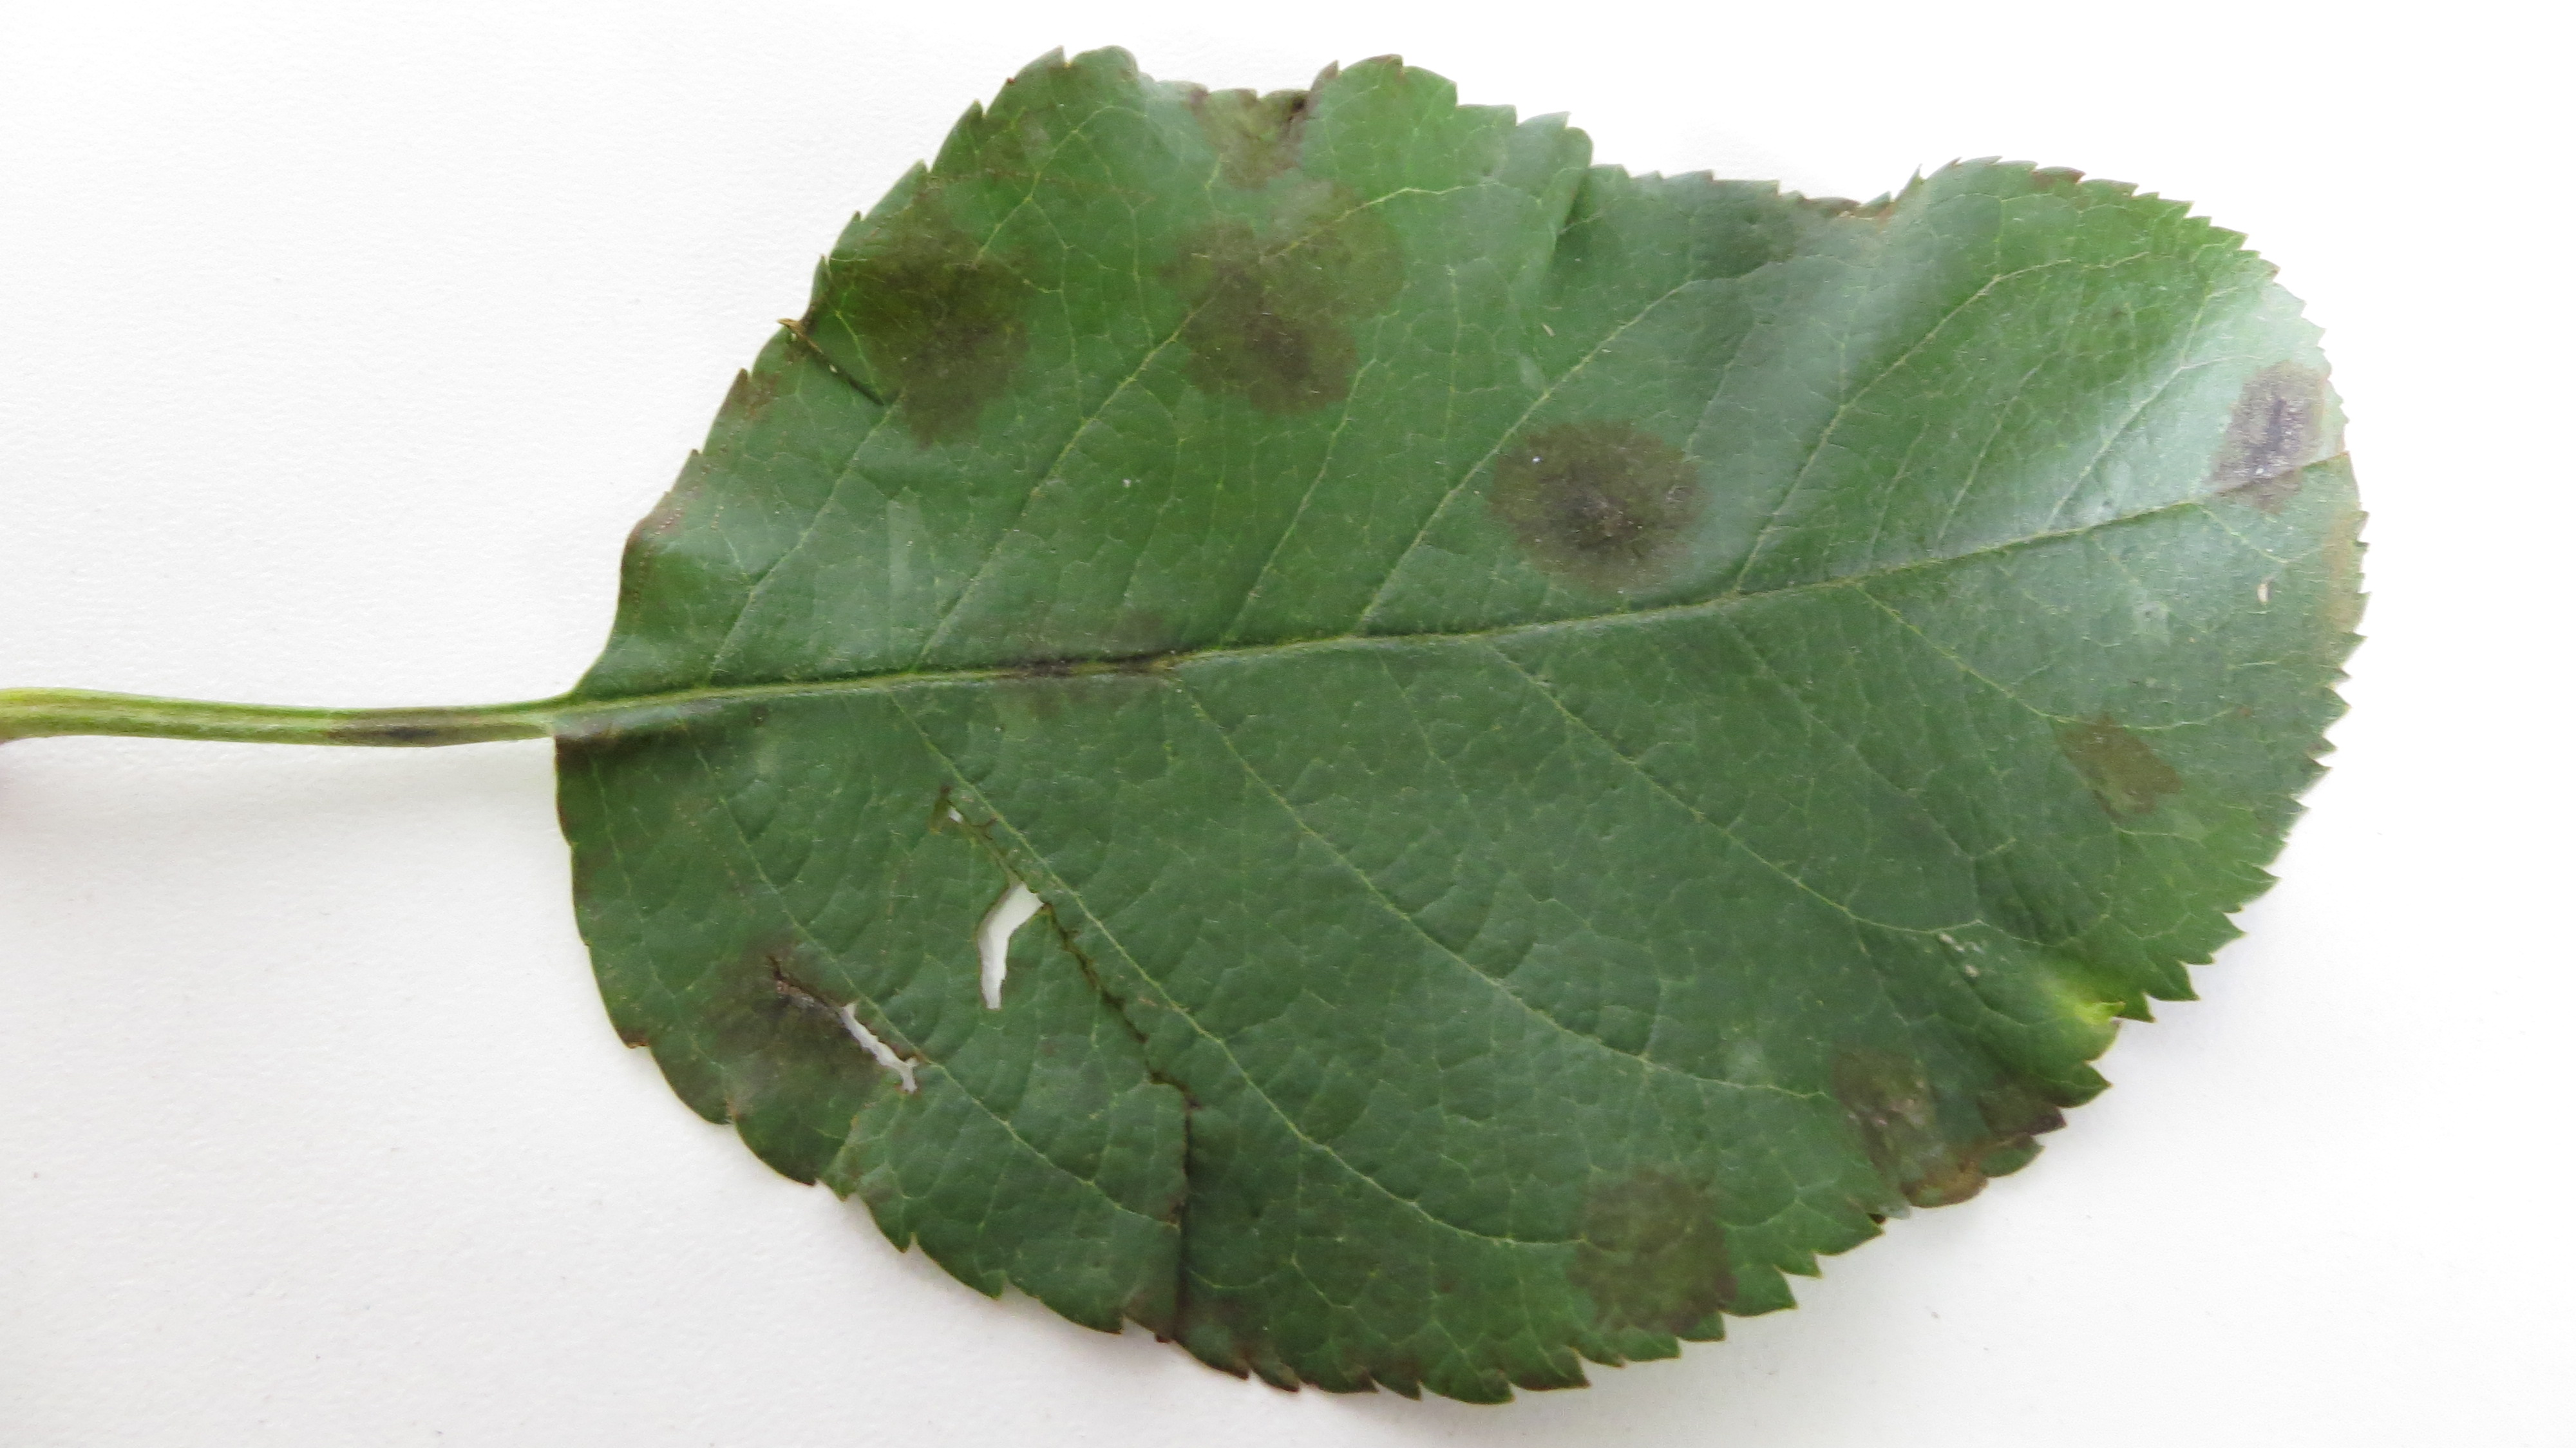sarna: (1150, 184, 1414, 421), (817, 195, 1037, 451), (1488, 407, 1702, 612), (1560, 1152, 1752, 1351), (715, 931, 927, 1099), (1845, 1048, 2052, 1202), (2203, 333, 2319, 533), (1000, 597, 1177, 720), (2028, 687, 2174, 830), (1187, 74, 1330, 189)
